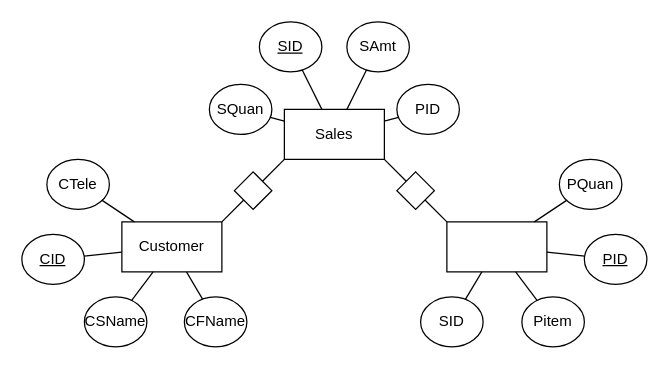
This 669x369 diagram has some shape labels left out. The box of each missing label's shape, as (x1, y1, x2, y2) in pixels:
of: (396, 171, 434, 209)
Product: (446, 221, 547, 272)
to: (233, 171, 272, 209)
